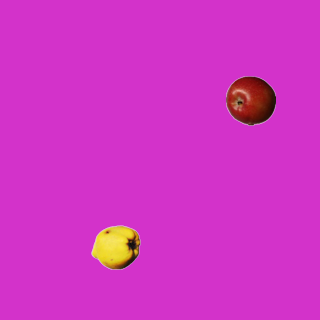Apple Braeburn: (225, 75, 275, 125)
Quince: (90, 222, 140, 272)
